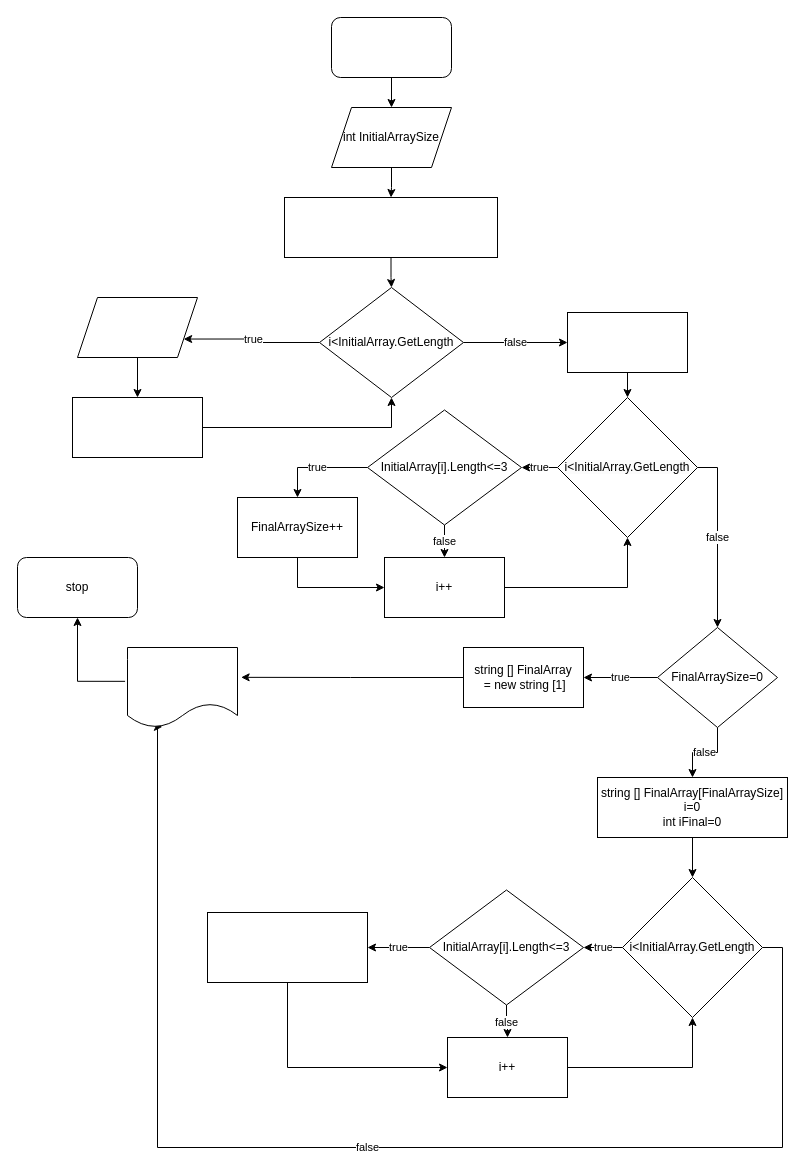
Image size: 808x1173. Some labels were removed from this diagram. The centre of each missing label's shape, as x and y in pixels:
FinalArray: [182,687]
FinalArray[iFin]=InitialArray[i] iFin++: [287,947]
i=0 int FinalArraySize=0: [627,342]
InitialArray[i]=OurString i++: [137,427]
int i=0 string OurString="0" string [] InitialArray[InitialArraySize]: [391,227]
OurString: [137,327]
start: [391,47]
